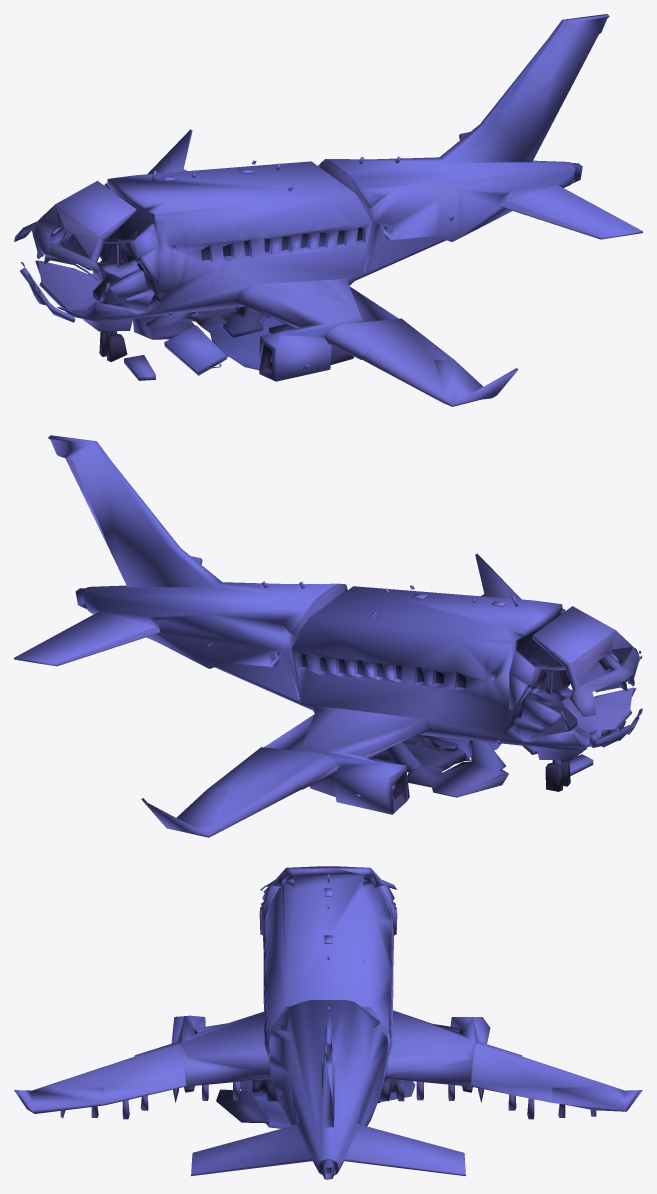
The model's file is model.progressive.glb.
3 renders of one model, top to bottom at view 1: azimuth 30°, elevation 25°; view 2: azimuth 150°, elevation 25°; view 3: azimuth 270°, elevation 25°, orthographic. The views are drawn at different scales.
Parts seen in each view (by area): view 1: material; view 2: material; view 3: material.
Boxes of the visible parts, x1=… form: material: x1=14, y1=14, x2=642, y2=406; material: x1=14, y1=435, x2=642, y2=837; material: x1=14, y1=866, x2=642, y2=1179.
Bounding box in the file's own units: 1.9 × 0.74 × 1.9.
1 material, 1 textured.
